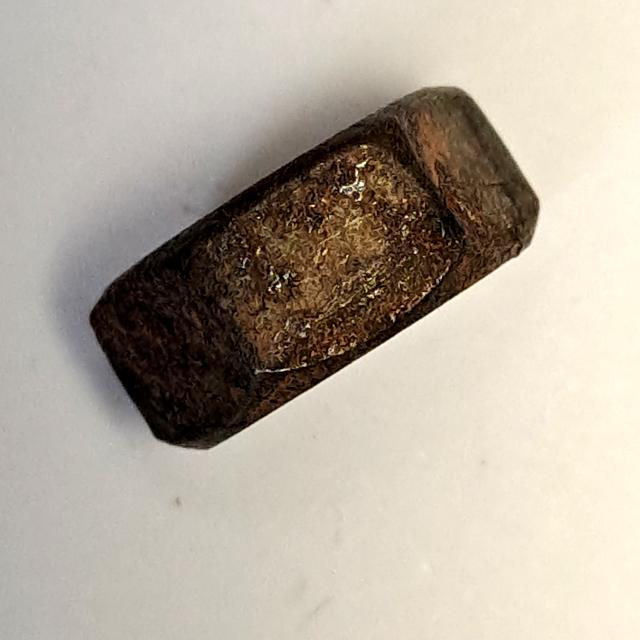Side_Rust: (66, 68, 553, 477)
